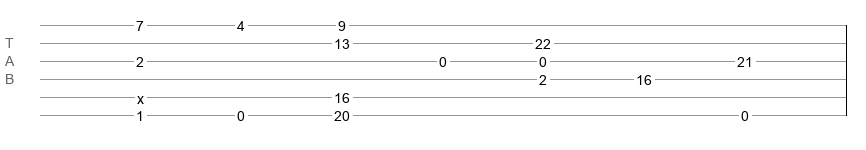0: (237, 108, 245, 118), (439, 54, 447, 64), (539, 54, 547, 64), (741, 108, 749, 118)
1: (136, 108, 144, 118)
13: (334, 36, 350, 46)
16: (334, 90, 350, 100), (636, 72, 652, 82)
2: (136, 54, 144, 64), (539, 72, 547, 82)
20: (334, 108, 350, 118)
21: (737, 54, 753, 64)
22: (535, 36, 551, 46)
4: (237, 18, 245, 28)
7: (136, 18, 144, 28)
9: (338, 18, 346, 28)
x: (137, 91, 144, 99)
